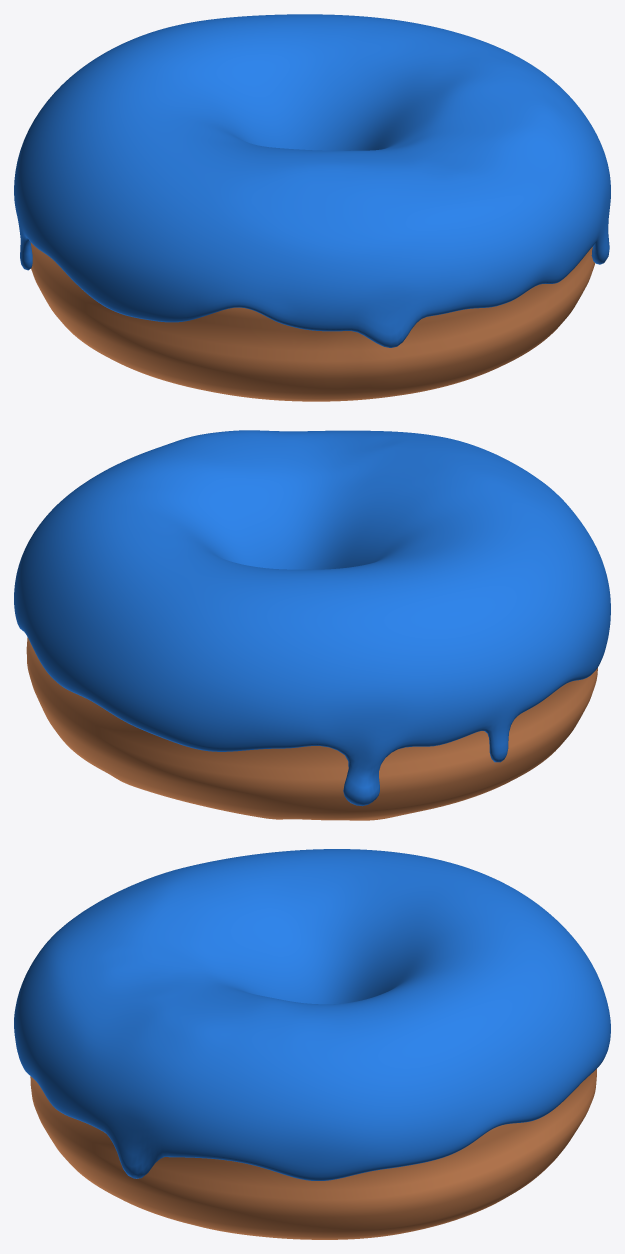
Rendered from Donut_V3.fbx.
3 views of the same model, one above another, from view 1: azimuth 30°, elevation 25°; view 2: azimuth 150°, elevation 25°; view 3: azimuth 270°, elevation 25° (orthographic). The views are drawn at different scales.
Visible parts, largest first — view 1: Icing, Donut; view 2: Icing, Donut; view 3: Icing, Donut.
Part boxes in pixels (bbox=[...]): Icing: bbox=[14, 14, 610, 347]; Donut: bbox=[30, 242, 595, 401]; Icing: bbox=[14, 430, 610, 806]; Donut: bbox=[26, 637, 597, 820]; Icing: bbox=[14, 849, 610, 1180]; Donut: bbox=[30, 1069, 596, 1239].
Bounding box in the file's own units: 9.94 × 4.25 × 10.03.
